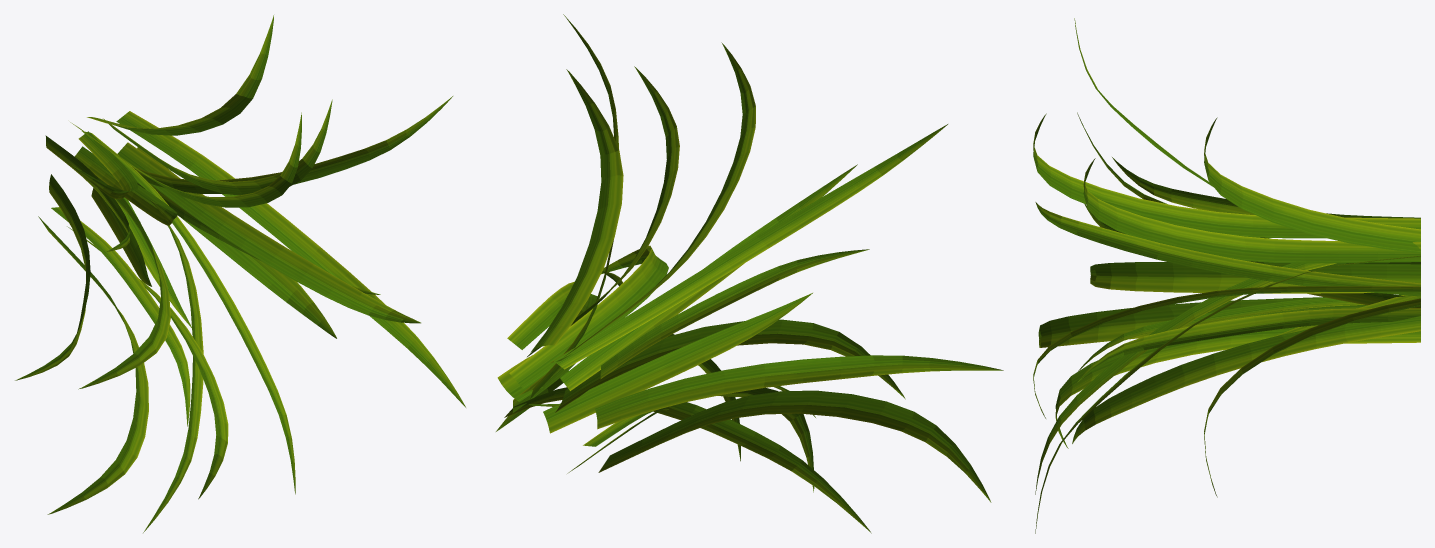
File: High_Grass.092_Material.086.obj
The picture shows the model from 3 angles, left to right: view 1: azimuth 30°, elevation 25°; view 2: azimuth 150°, elevation 25°; view 3: azimuth 270°, elevation 25°; orthographic projection. The views are drawn at different scales.
Visible parts, largest first — view 1: High_Grass.092_High_Grass.148; view 2: High_Grass.092_High_Grass.148; view 3: High_Grass.092_High_Grass.148.
Part boxes in pixels (box(x1,y1,x2,y2)): High_Grass.092_High_Grass.148: box(15, 15, 465, 532); High_Grass.092_High_Grass.148: box(496, 14, 1003, 533); High_Grass.092_High_Grass.148: box(1033, 18, 1420, 533).
Bounding box in the file's own units: 1.71 × 1.59 × 1.3.
